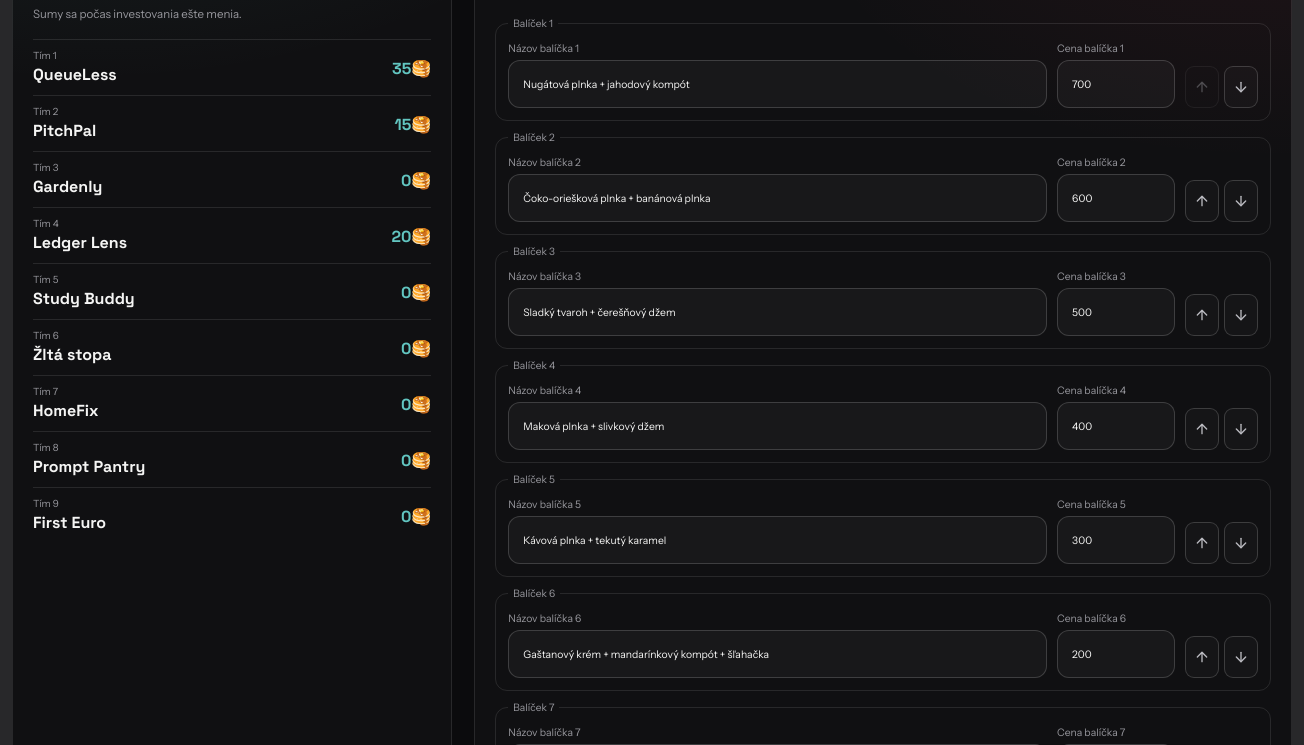
Test case: PancakeMarketAdmin › validates descending prices before saving
Replace the text in the number field labelled "Cena balíčka 2" with "700": (1116, 198) [1057,174,1175,222]
(page scrolled)
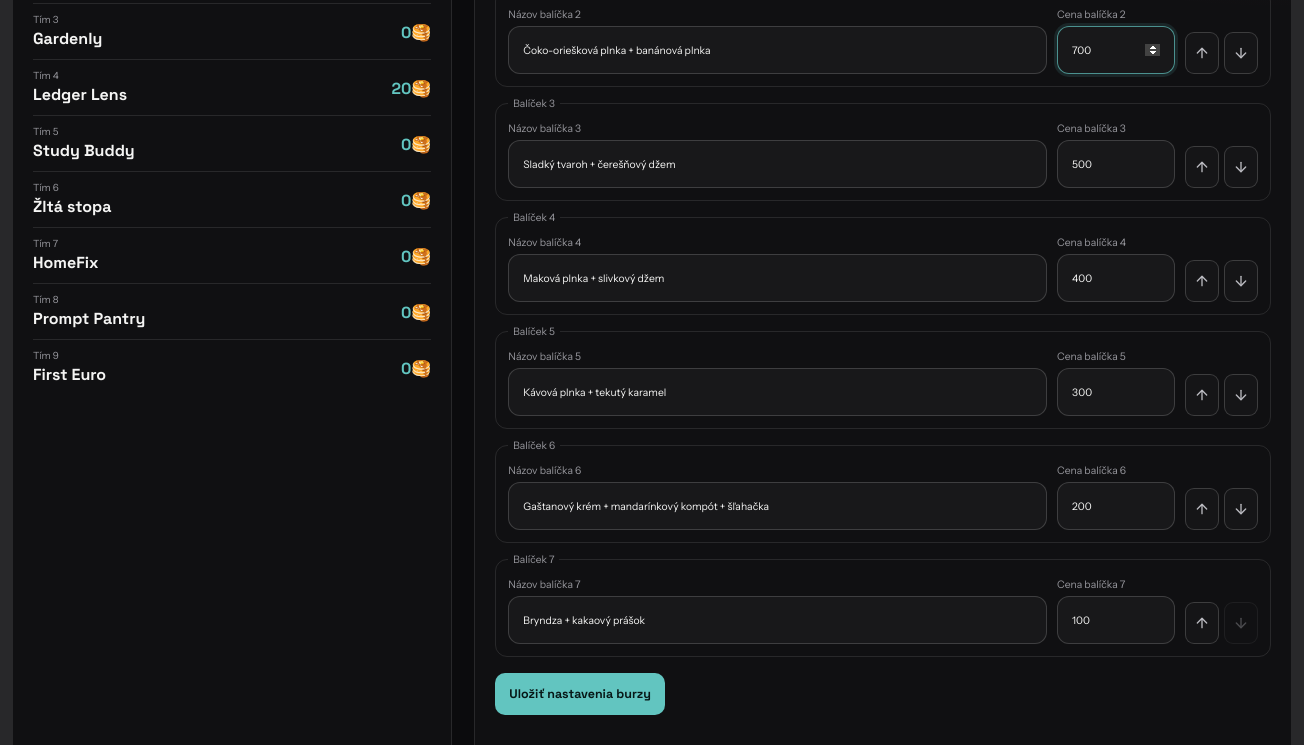
Click the button "Uložiť nastavenia burzy": (580, 694) [495,673,665,715]
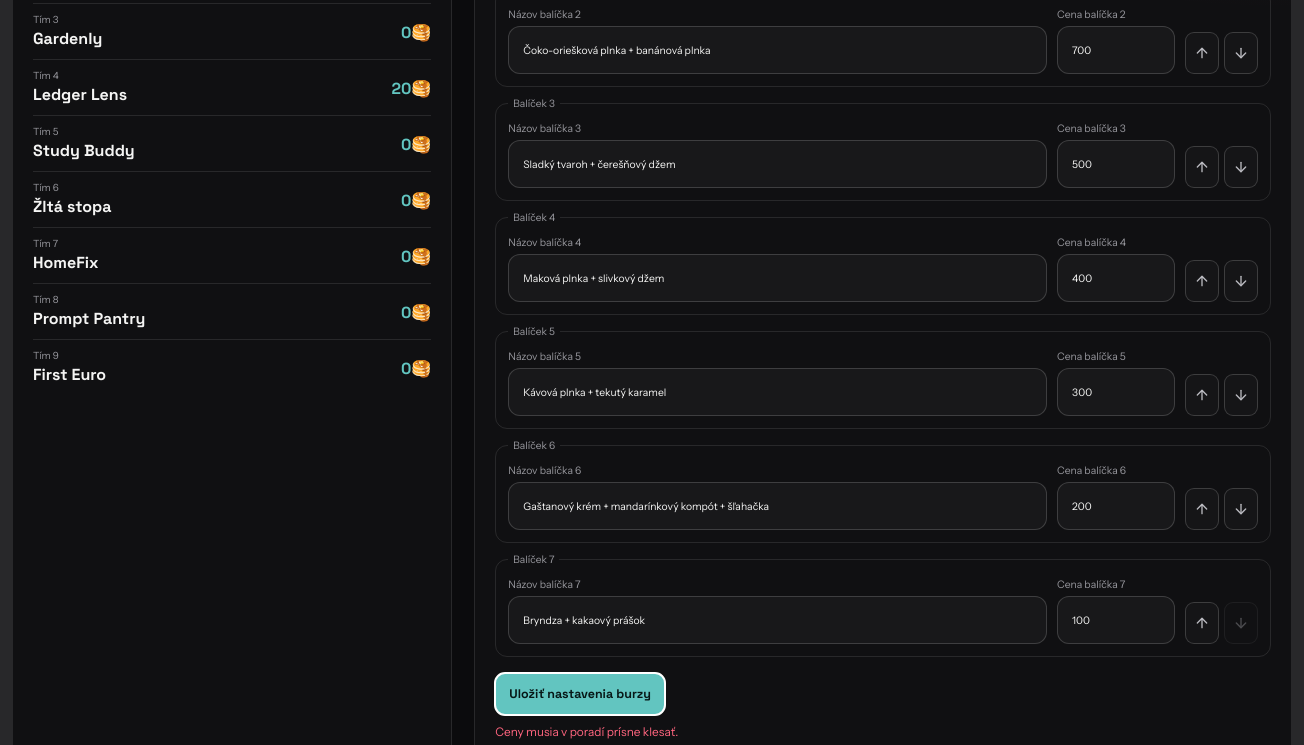
expect the text "Ceny musia v poradí prísne klesať." is shown: met, box [495,725,678,739]
